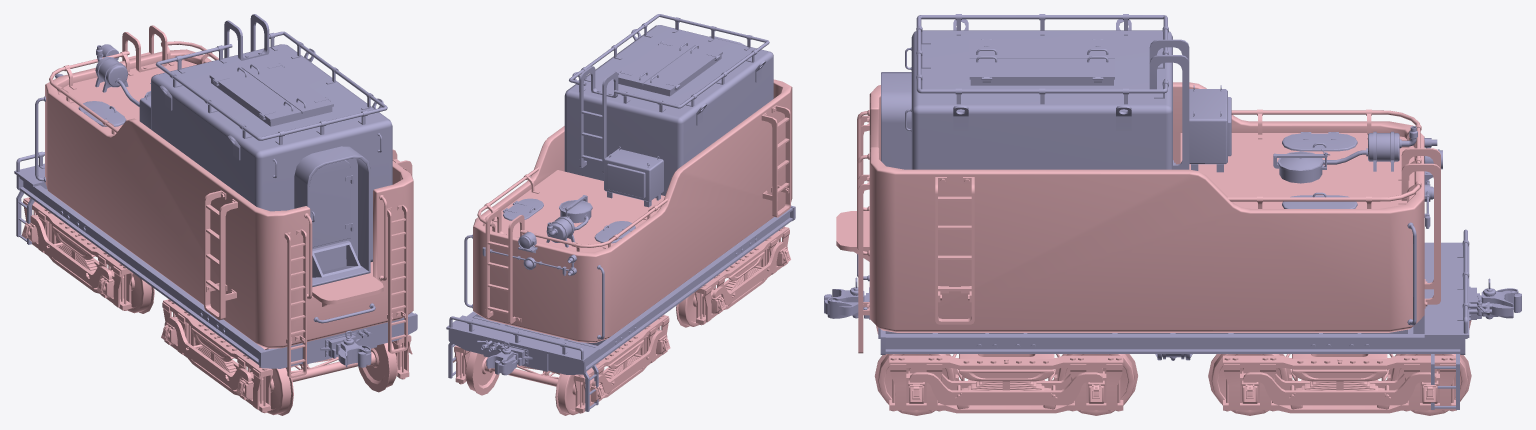
Rendered from TenderVagonSt.FBX.
The picture shows the model from 3 angles, left to right: view 1: azimuth 30°, elevation 25°; view 2: azimuth 150°, elevation 25°; view 3: azimuth 270°, elevation 25°; orthographic projection. The views are drawn at different scales.
Visible parts, largest first — view 1: TenderVagon; view 2: TenderVagon; view 3: TenderVagon.
Boxes of the visible parts, x1,y1,x2,y2 form: TenderVagon: [14, 14, 417, 415]; TenderVagon: [446, 14, 795, 415]; TenderVagon: [824, 14, 1521, 415].
Size of the model in its own units: 138 by 203 by 363.
